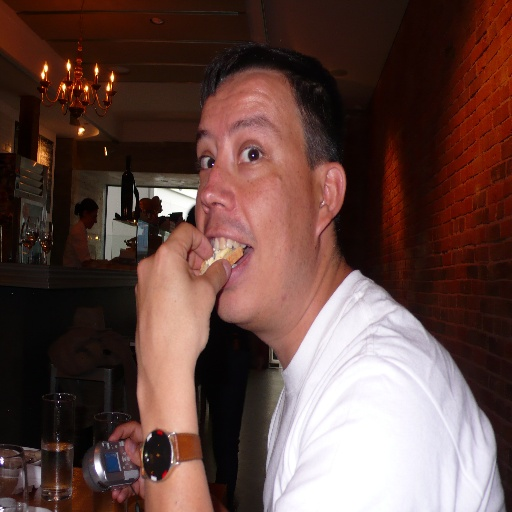hand: (131, 208, 220, 415), (106, 418, 144, 502)
